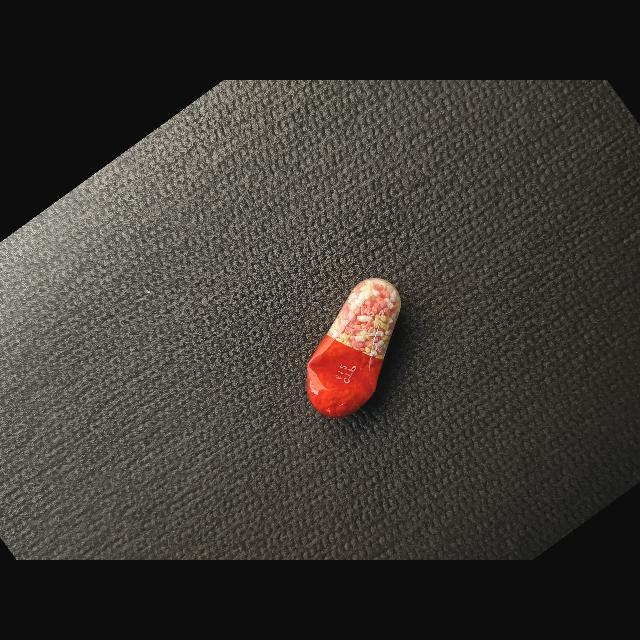Defective Capsule: (307, 278, 401, 418)
